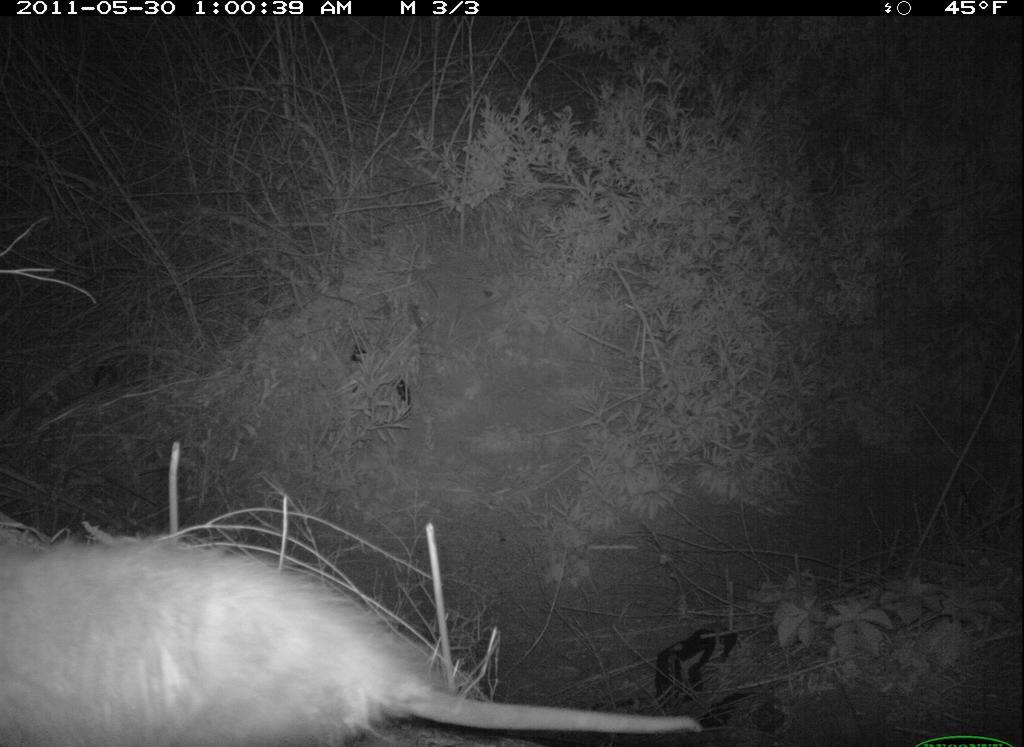opossum: (2, 506, 718, 747)
